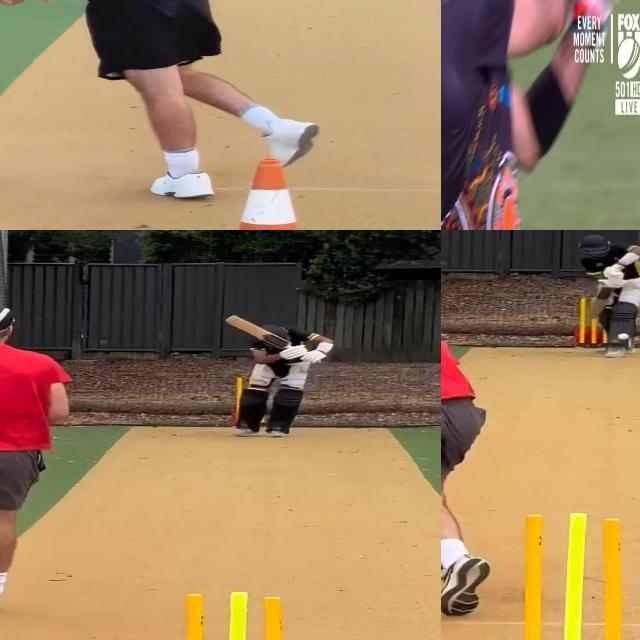Cricket ball: (615, 331, 631, 341)
Stumps: (501, 512, 638, 640), (164, 592, 302, 640)
